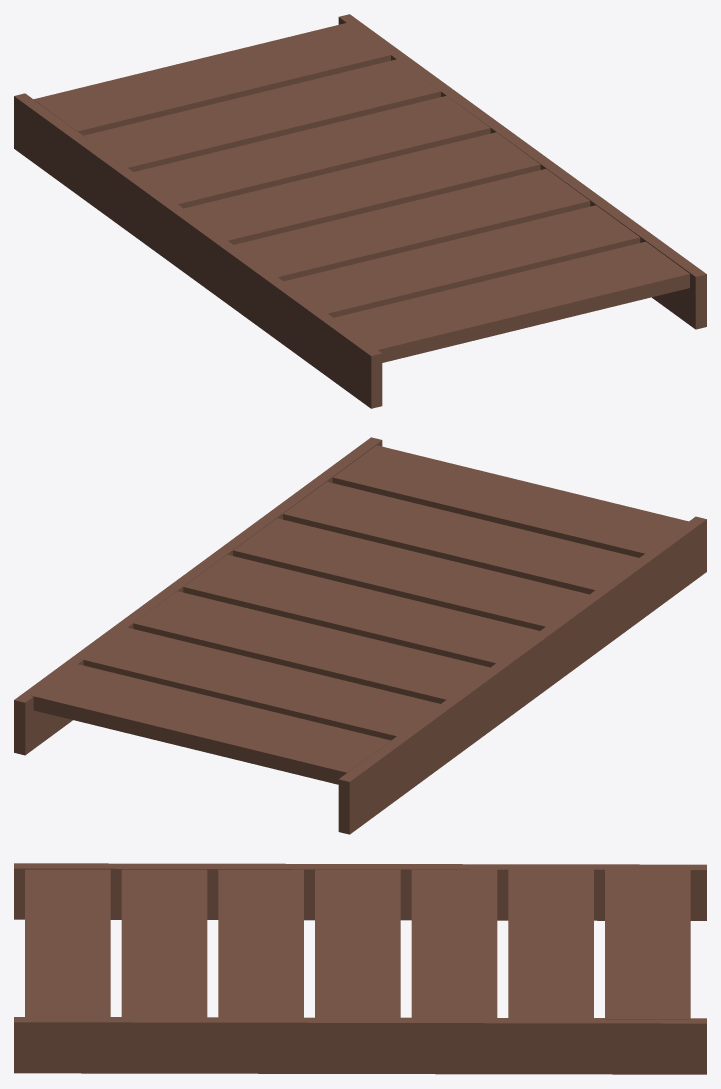
The model's file is base_sup.fbx.
3 views of the same model, one above another, from view 1: azimuth 30°, elevation 25°; view 2: azimuth 150°, elevation 25°; view 3: azimuth 270°, elevation 25° (orthographic). The views are drawn at different scales.
Visible parts, largest first — view 1: base_sup; view 2: base_sup; view 3: base_sup.
Boxes of the visible parts, x1,y1,x2,y2 form: base_sup: (14, 14, 706, 408); base_sup: (14, 437, 706, 834); base_sup: (14, 863, 706, 1074).
Bounding box in the file's own units: 223 × 34.34 × 412.
